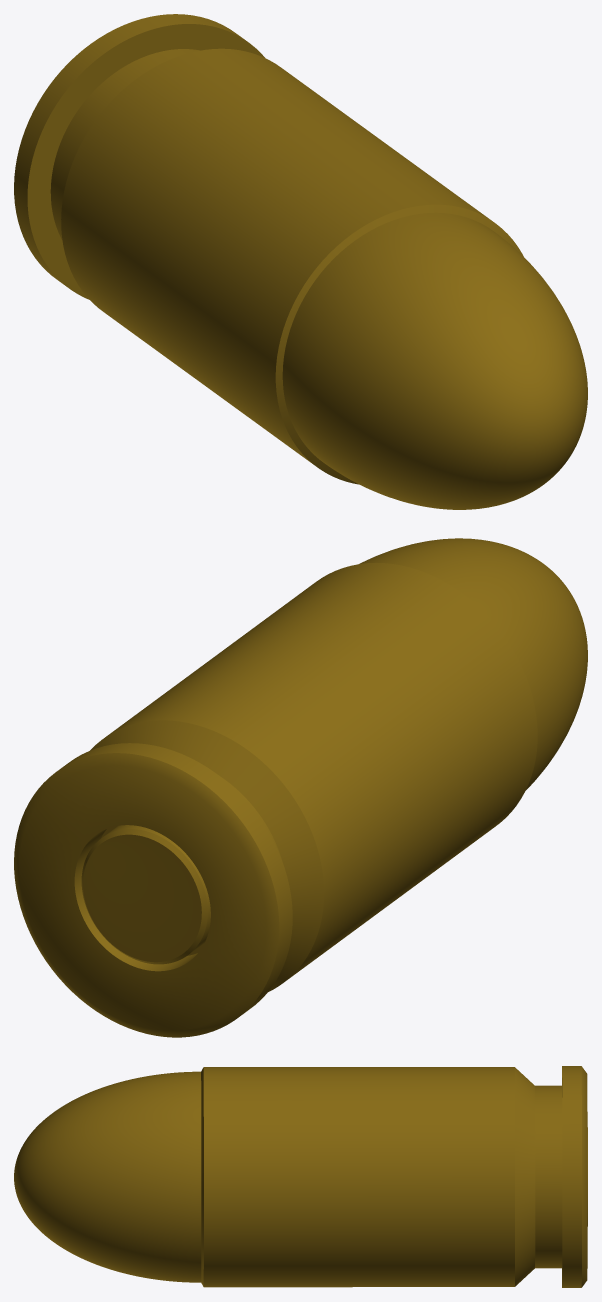
File: Bullet.obj
The picture shows the model from 3 angles, top to bottom: view 1: azimuth 30°, elevation 25°; view 2: azimuth 150°, elevation 25°; view 3: azimuth 270°, elevation 25°; orthographic projection. The views are drawn at different scales.
Visible parts, largest first — view 1: Capsule; view 2: Capsule; view 3: Capsule.
Boxes of the visible parts, x1,y1,x2,y2 form: Capsule: (14, 14, 587, 509); Capsule: (14, 538, 587, 1037); Capsule: (14, 1066, 587, 1287).
Bounding box in the file's own units: 0.3402 × 0.34 × 0.8797.
1 material, 1 textured.
